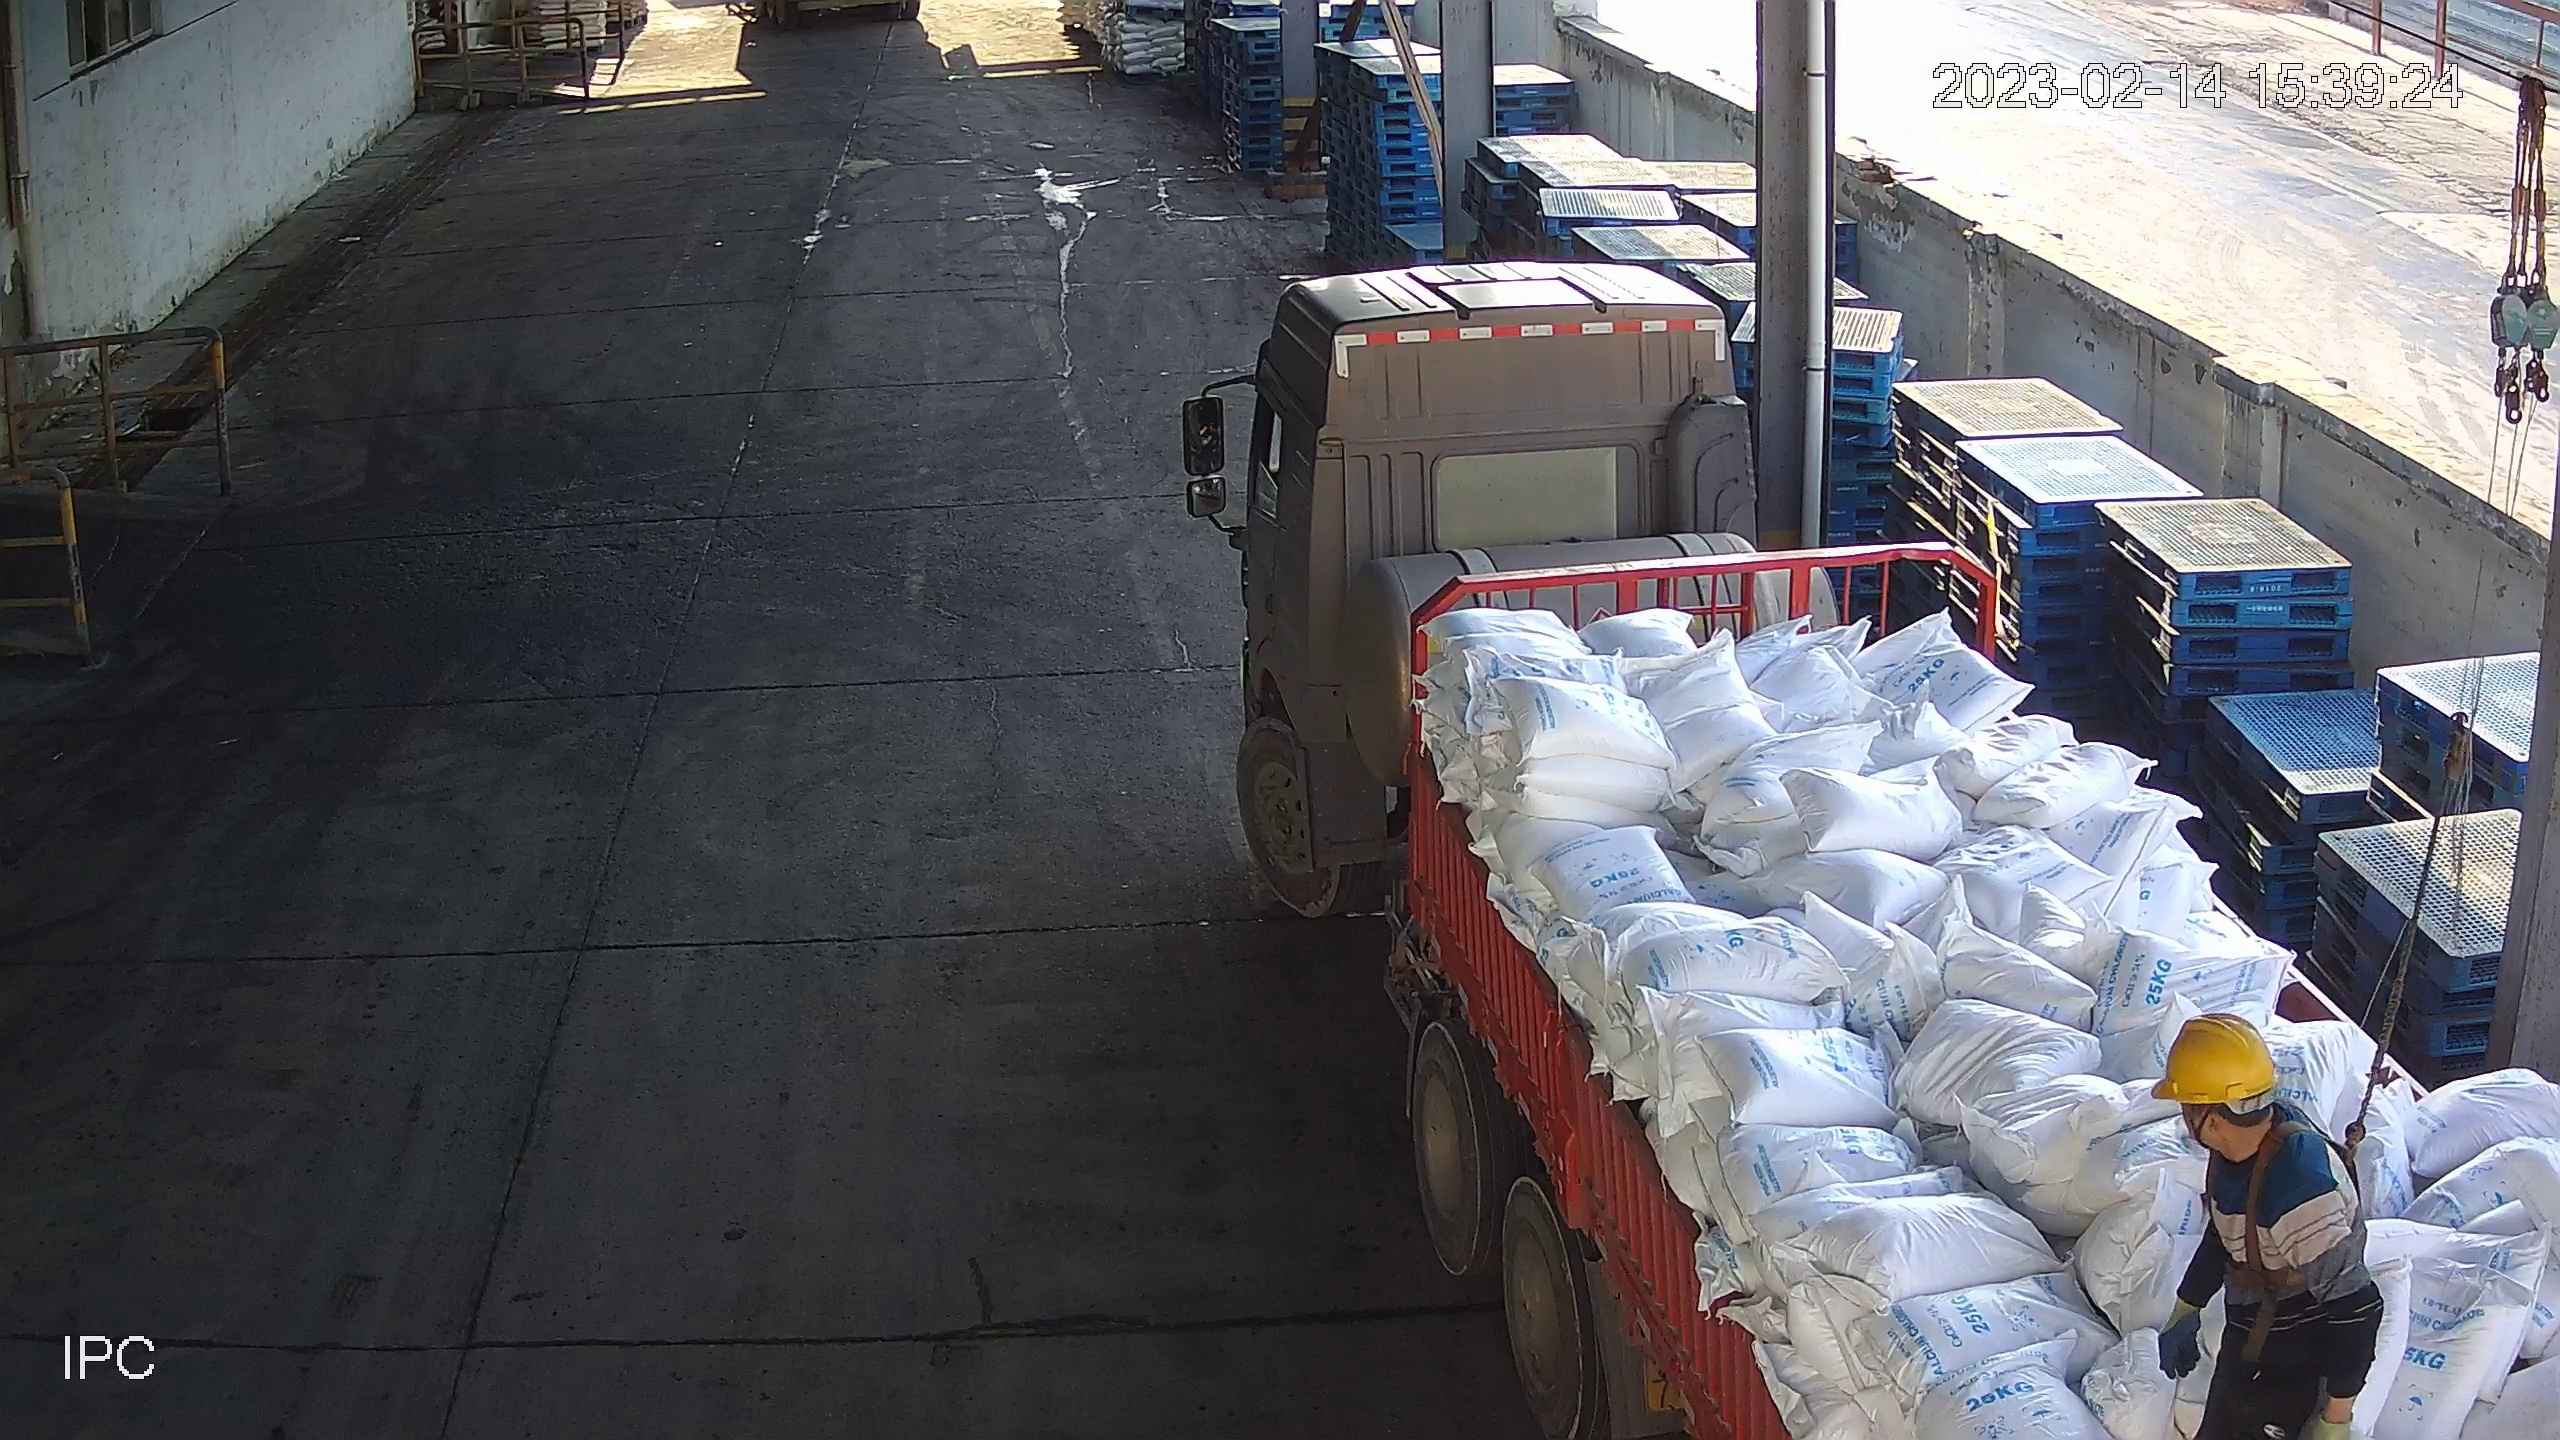belt: (2235, 1118, 2384, 1314)
head: (2149, 1013, 2341, 1186)
helmet: (2149, 1009, 2281, 1104)
people: (2149, 1011, 2383, 1440)
truck: (1167, 250, 2560, 1440)
